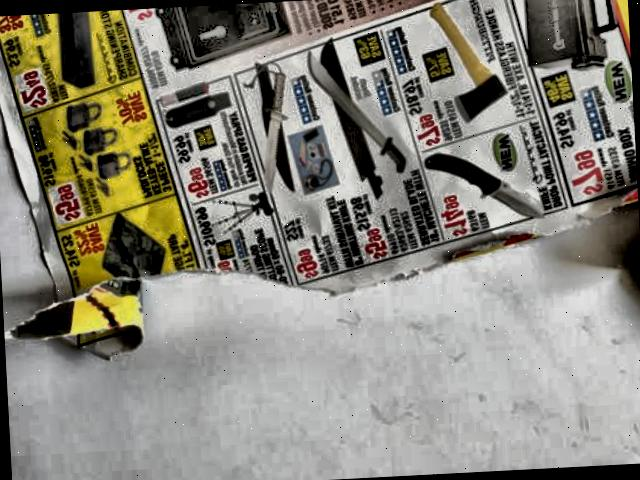Paper: (0, 0, 640, 371)
